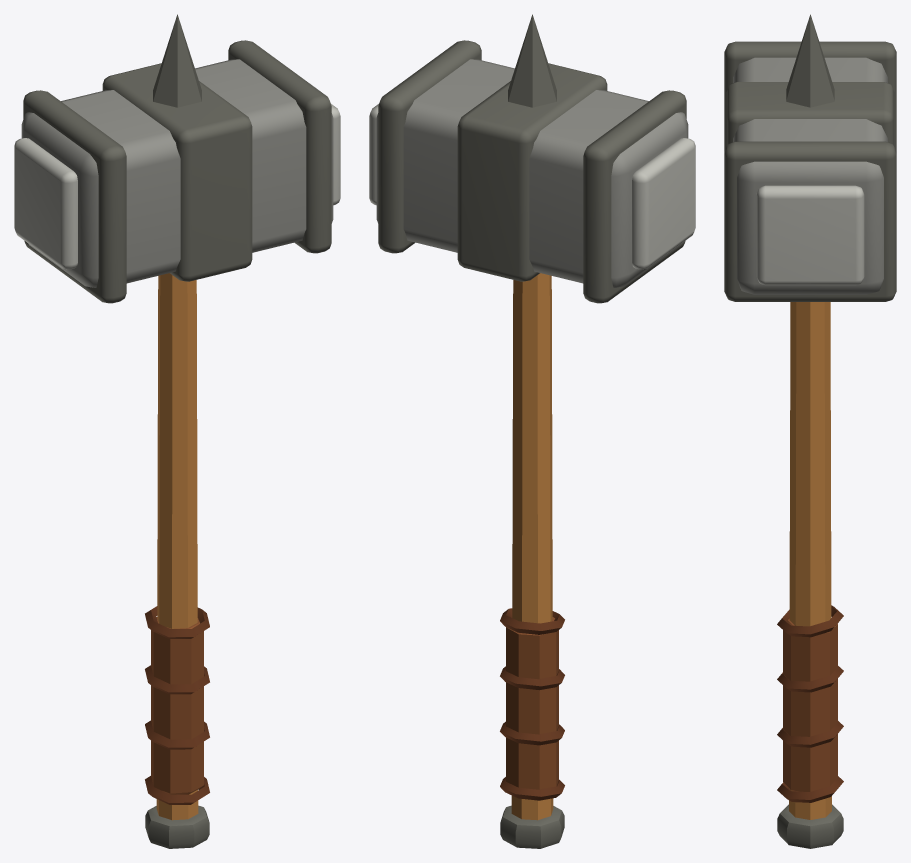
Rendered from StoneWarHammer.fbx.
3 views of the same model, side by side, from view 1: azimuth 30°, elevation 25°; view 2: azimuth 150°, elevation 25°; view 3: azimuth 270°, elevation 25° (orthographic).
Visible parts, largest first — view 1: StoneWarHammer; view 2: StoneWarHammer; view 3: StoneWarHammer.
Boxes of the visible parts, x1,y1,x2,y2 form: StoneWarHammer: (14, 14, 340, 848); StoneWarHammer: (369, 14, 695, 848); StoneWarHammer: (724, 14, 896, 848).
Size of the model in its own units: 1.5 by 4.23 by 0.8.
1 material, 1 textured.
